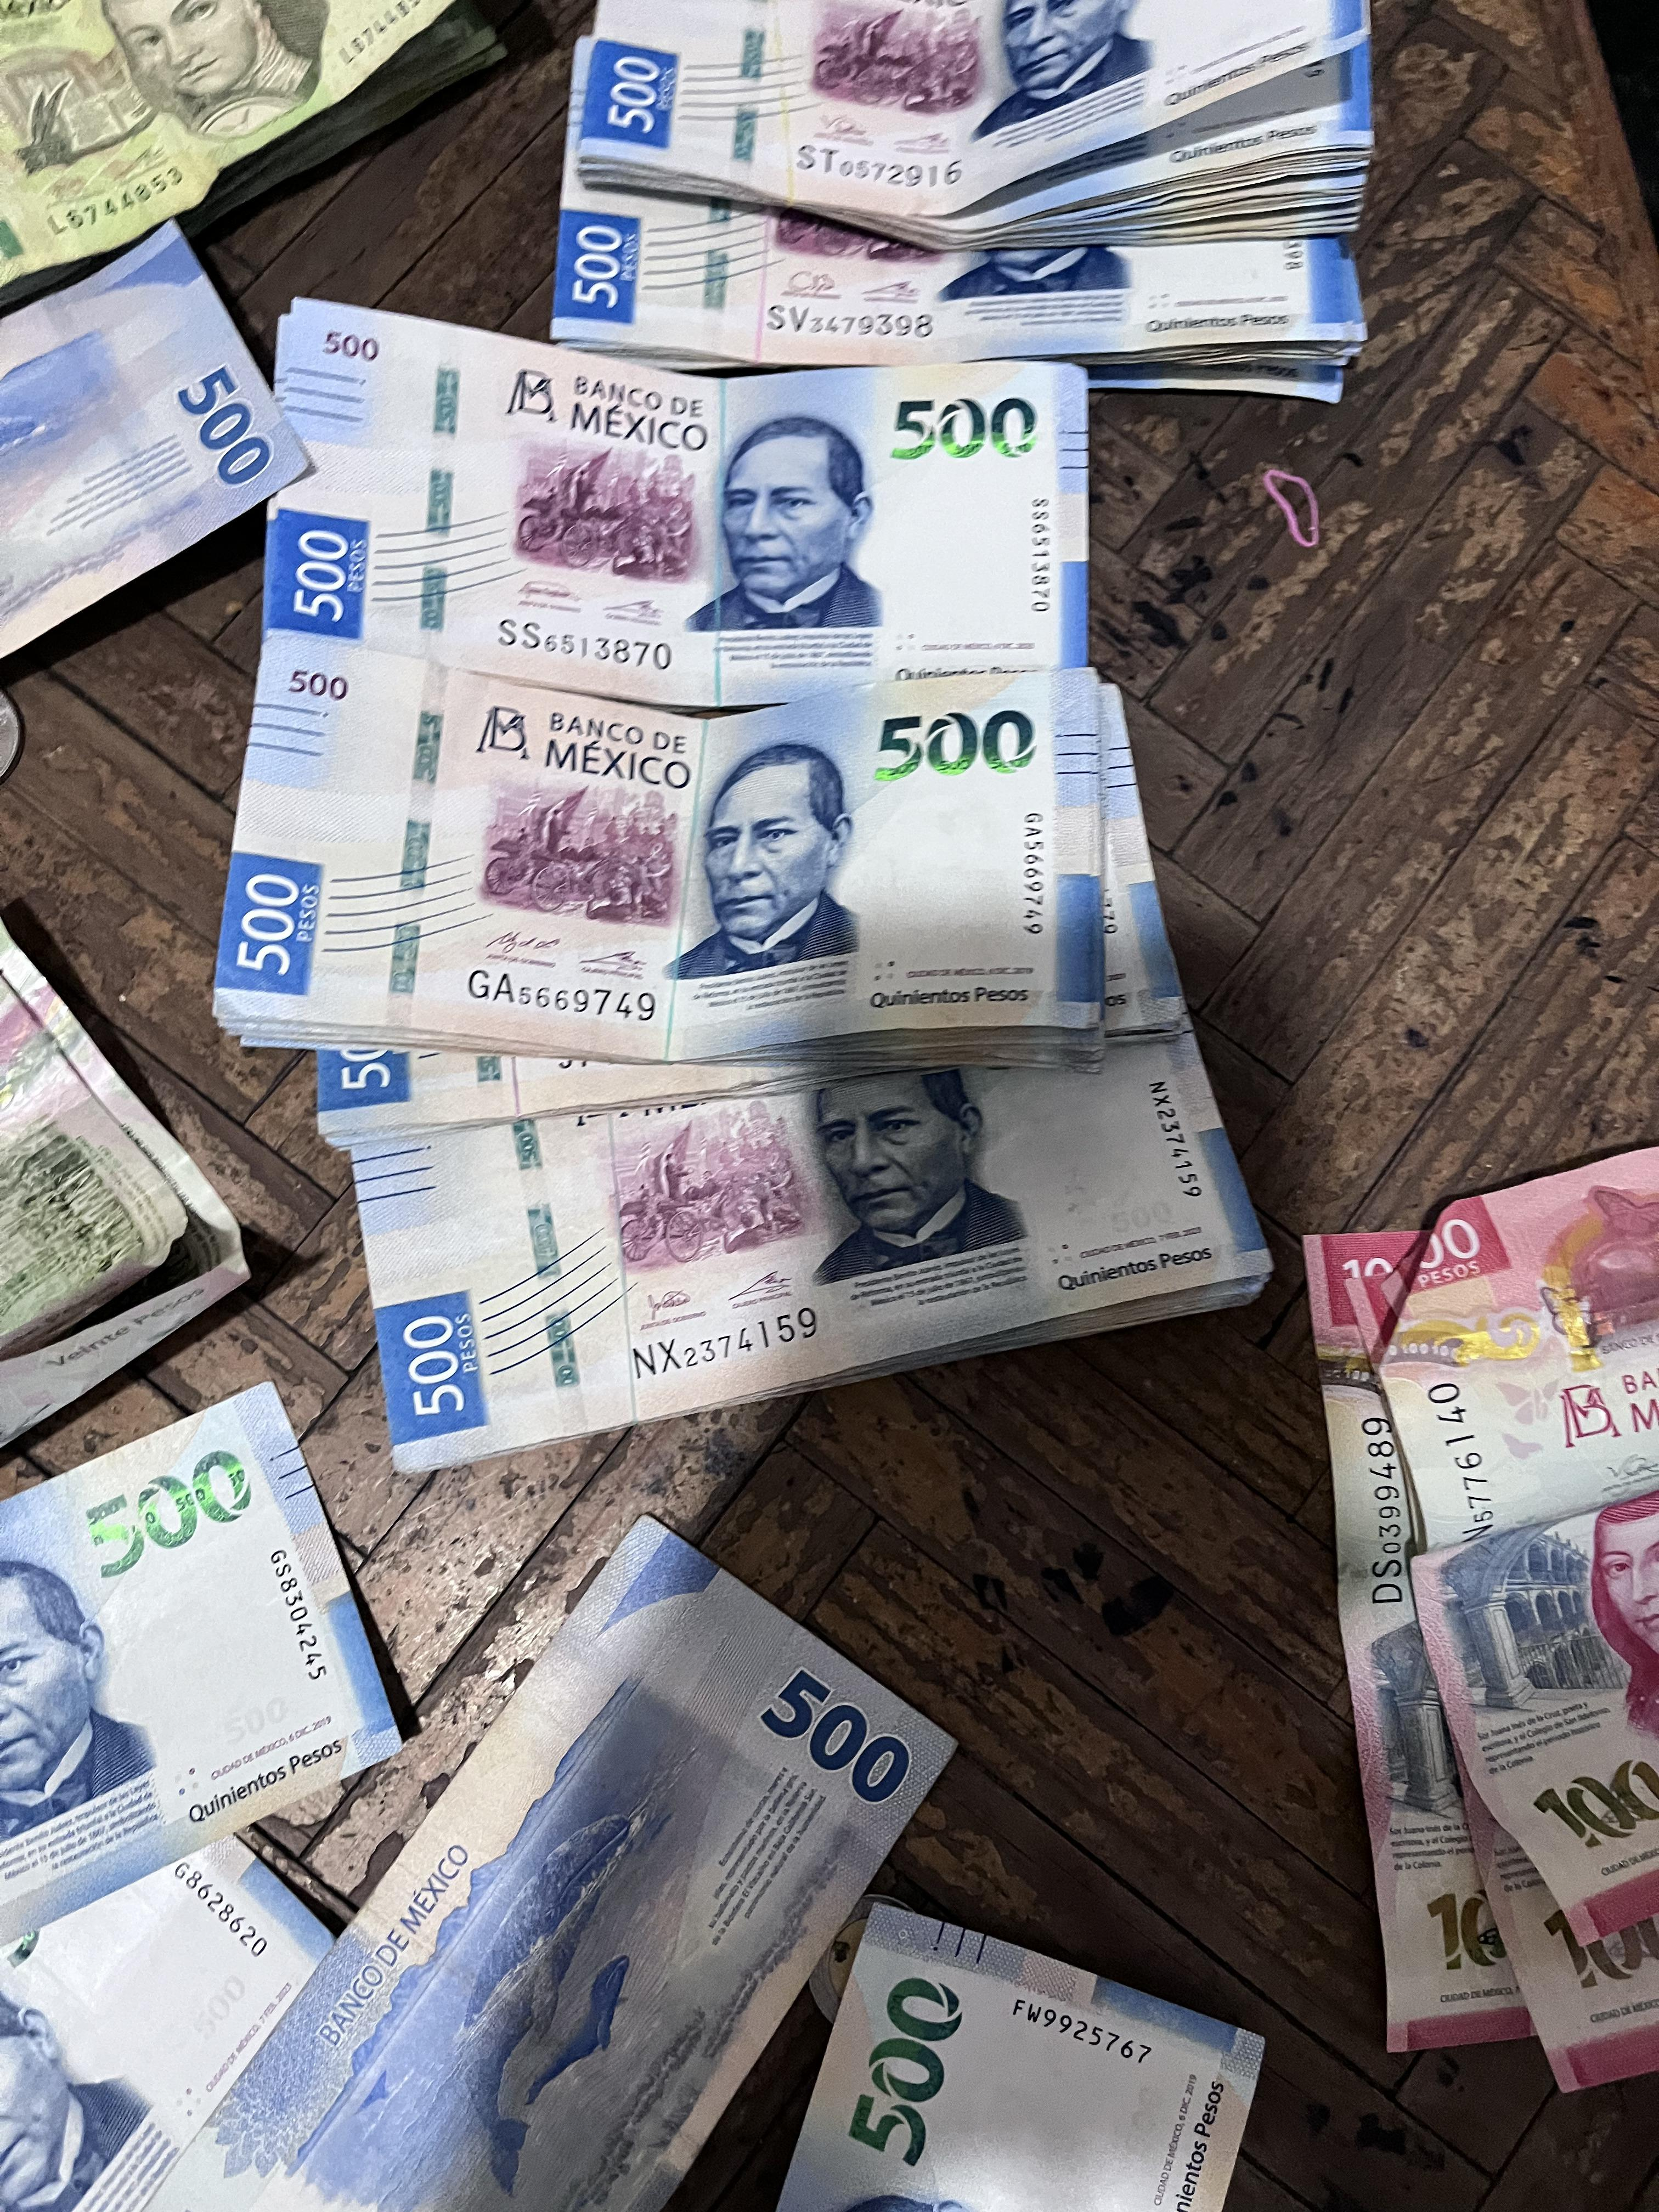100: (1300, 1158, 1647, 2087)
20: (2, 941, 258, 1426)
200: (0, 0, 528, 340)
500 nuevo: (199, 1521, 934, 2212), (178, 615, 1161, 1099), (263, 1038, 1304, 1460), (263, 305, 1082, 662), (0, 1402, 410, 1949), (589, 0, 1415, 228), (519, 195, 1385, 404), (0, 1742, 361, 2212), (0, 235, 321, 653), (782, 1961, 1305, 2212)
